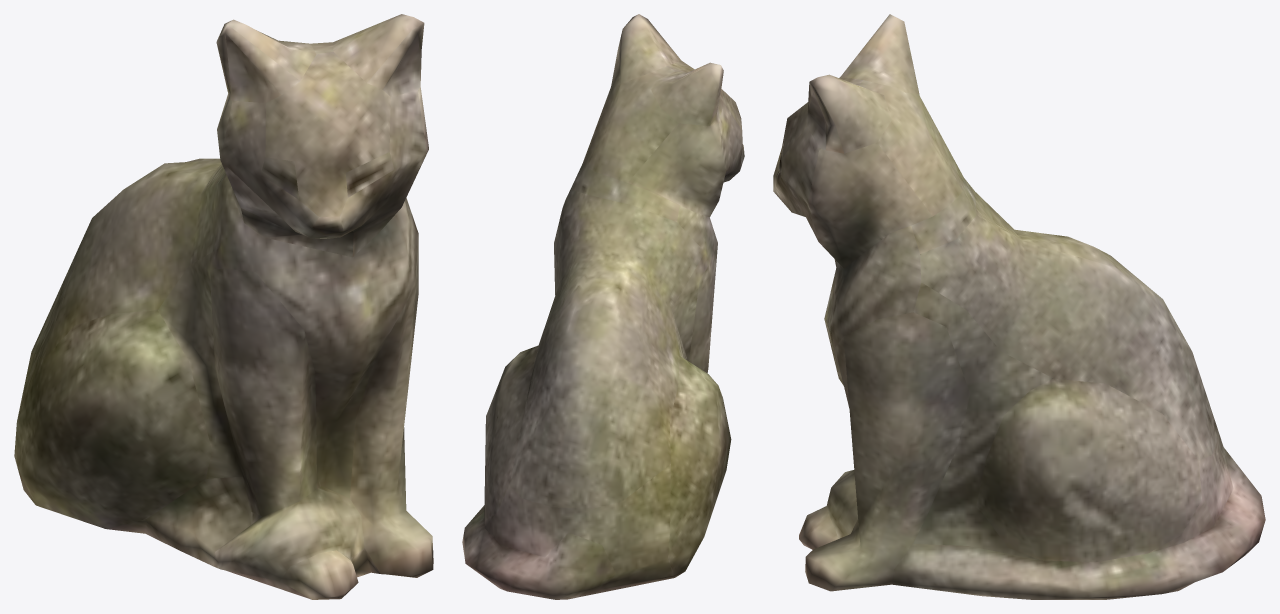
Rendered from cat.glb.
The picture shows the model from 3 angles, left to right: view 1: azimuth 30°, elevation 25°; view 2: azimuth 150°, elevation 25°; view 3: azimuth 270°, elevation 25°; orthographic projection. The views are drawn at different scales.
Visible parts, largest first — view 1: concrete_cat_statue; view 2: concrete_cat_statue; view 3: concrete_cat_statue.
Boxes of the visible parts, box(x1,y1,x2,y2) form: concrete_cat_statue: box(14, 14, 433, 599); concrete_cat_statue: box(462, 14, 744, 599); concrete_cat_statue: box(773, 14, 1265, 599).
Size of the model in its own units: 0.1517 by 0.2825 by 0.2493.
1 material, 1 textured.
